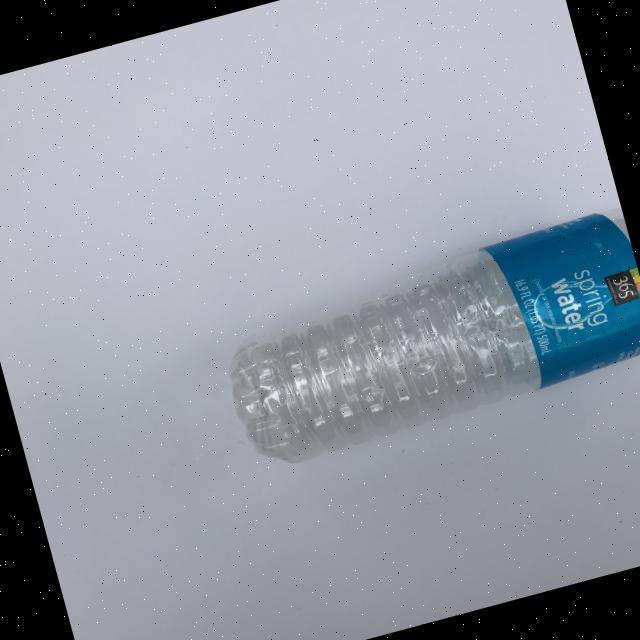plastic: (209, 204, 640, 474)
